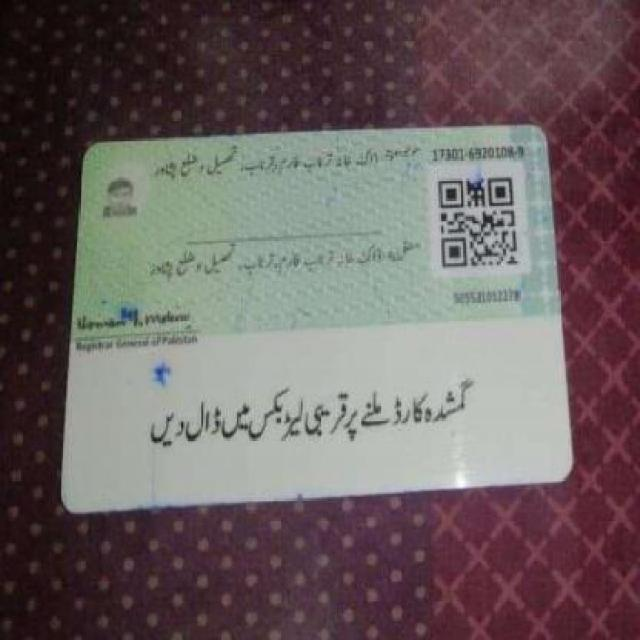Back: (43, 122, 588, 510)
